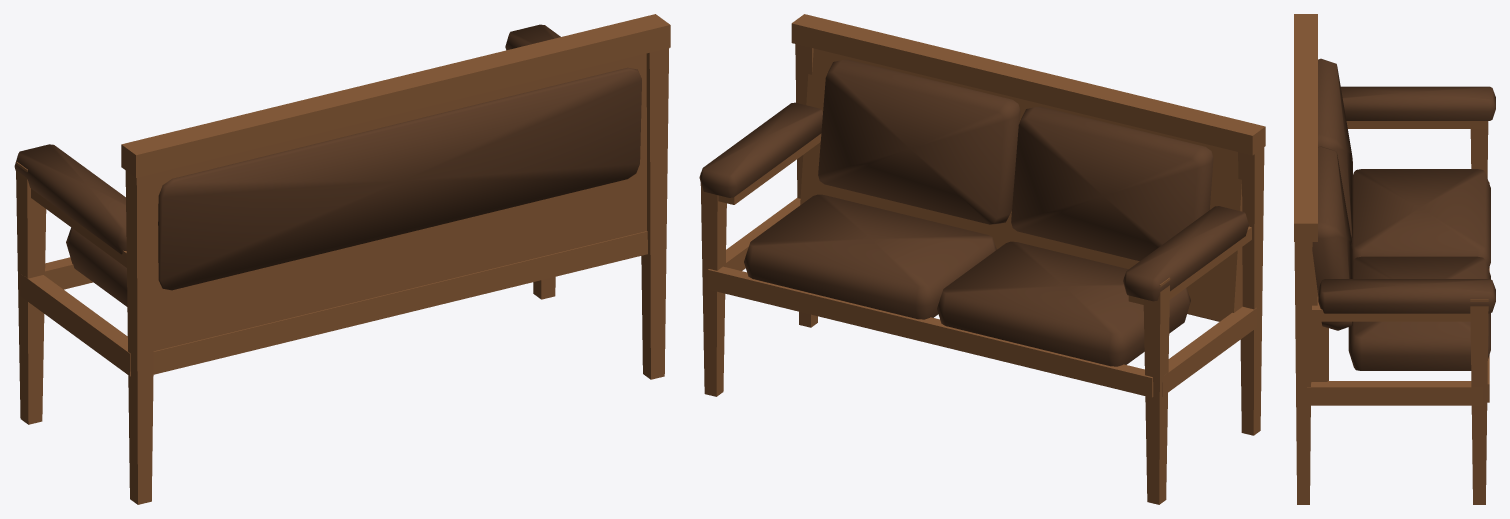
The picture shows the model from 3 angles, left to right: view 1: azimuth 30°, elevation 25°; view 2: azimuth 150°, elevation 25°; view 3: azimuth 270°, elevation 25°; orthographic projection. The views are drawn at different scales.
Visible parts, largest first — view 1: parametric-variant-sofa-3rd-62b0976cc1fa9a2eb3c6; view 2: parametric-variant-sofa-3rd-62b0976cc1fa9a2eb3c6; view 3: parametric-variant-sofa-3rd-62b0976cc1fa9a2eb3c6.
Boxes of the visible parts, x1,y1,x2,y2 form: parametric-variant-sofa-3rd-62b0976cc1fa9a2eb3c6: (14,14,670,504); parametric-variant-sofa-3rd-62b0976cc1fa9a2eb3c6: (699,14,1265,504); parametric-variant-sofa-3rd-62b0976cc1fa9a2eb3c6: (1294,14,1495,504).
Bounding box in the file's own units: 1.35 × 0.85 × 0.55.
